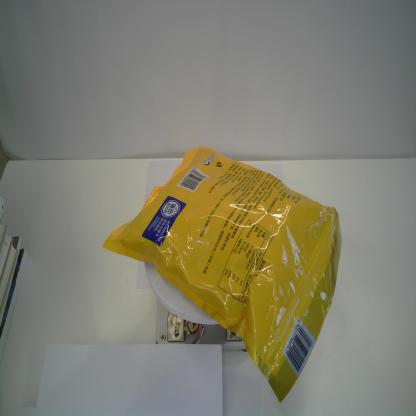Dried Food: (100, 144, 342, 404)
